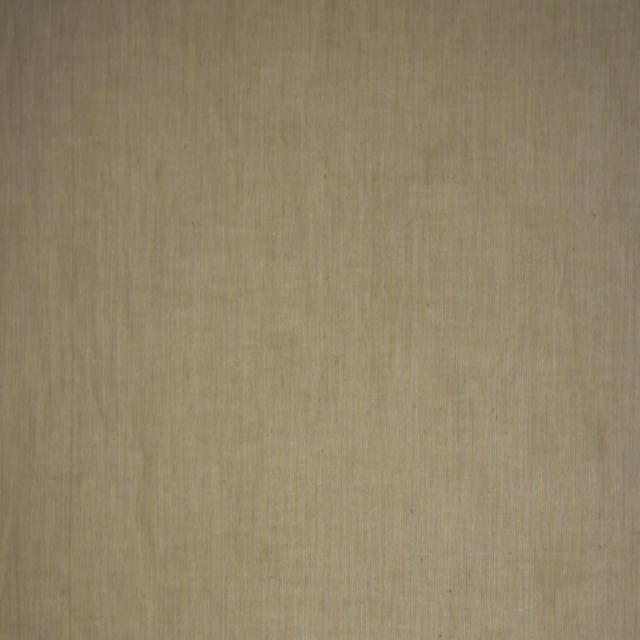dirty: (594, 412, 608, 464)
